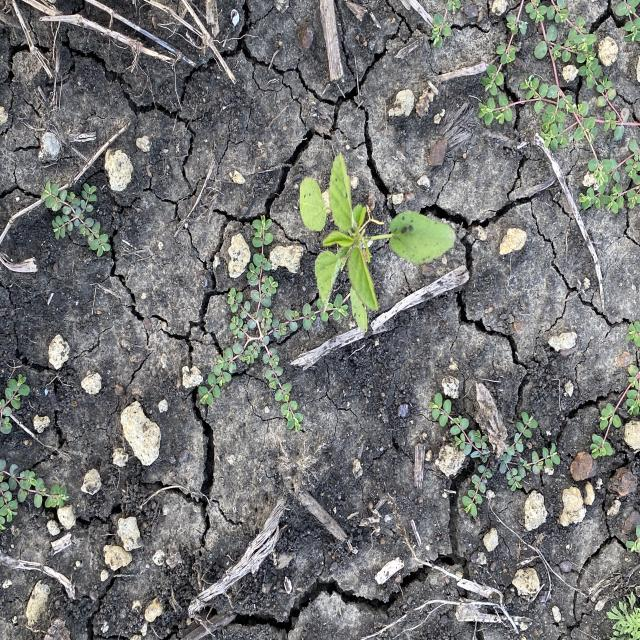PricklySida: (297, 149, 460, 335)
SpottedSpurge: (425, 1, 640, 215), (194, 212, 351, 436), (423, 384, 564, 518), (1, 370, 70, 532), (589, 312, 638, 462), (38, 171, 114, 262)
